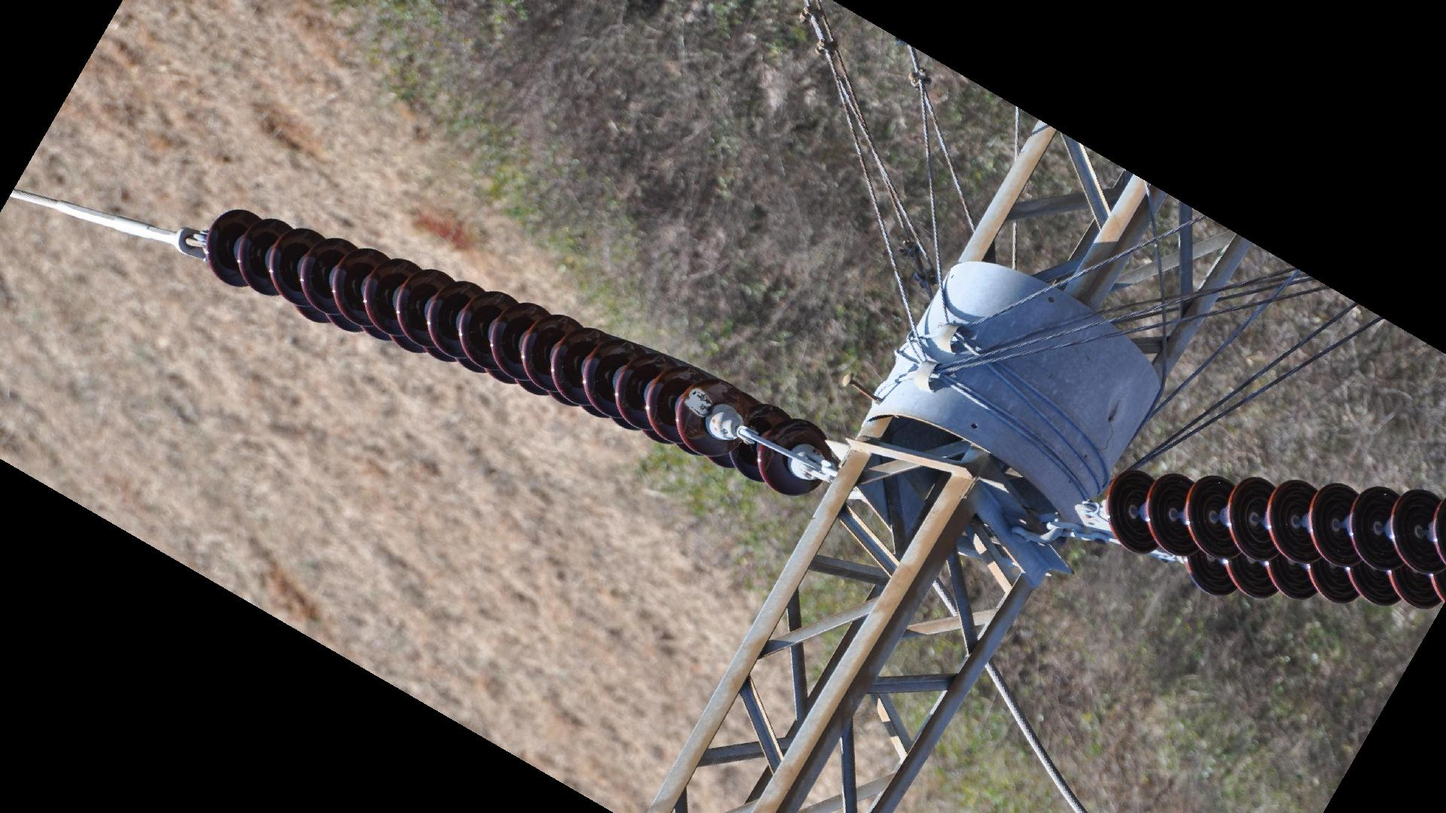insulator: (202, 206, 834, 501), (1100, 461, 1446, 614)
insulator_flashover: (681, 385, 712, 419)
